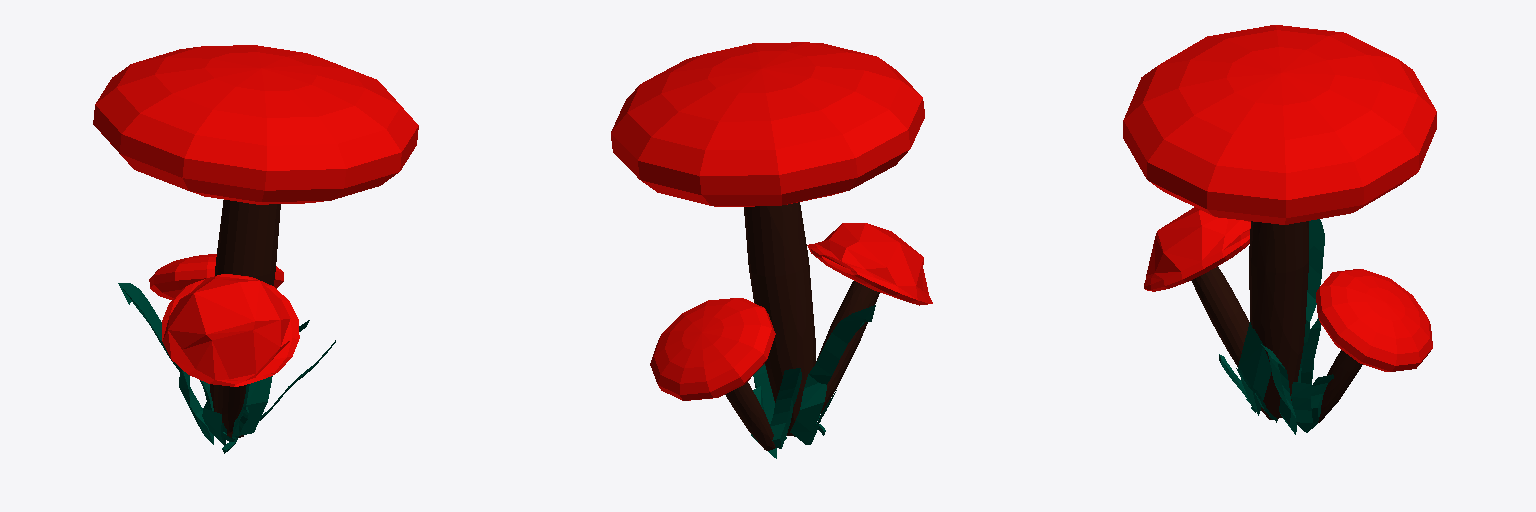
3 renders of one model, left to right at view 1: azimuth 30°, elevation 25°; view 2: azimuth 150°, elevation 25°; view 3: azimuth 270°, elevation 25°, orthographic.
Visible parts, largest first — view 1: group[number redacted]; view 2: group[number redacted]; view 3: group[number redacted].
Part boxes in pixels (x1,y1,x2,y2): group[number redacted]: (93, 45, 418, 453); group[number redacted]: (611, 42, 932, 458); group[number redacted]: (1123, 25, 1436, 434).
Size of the model in its own units: 0.146 by 0.1885 by 0.1423.